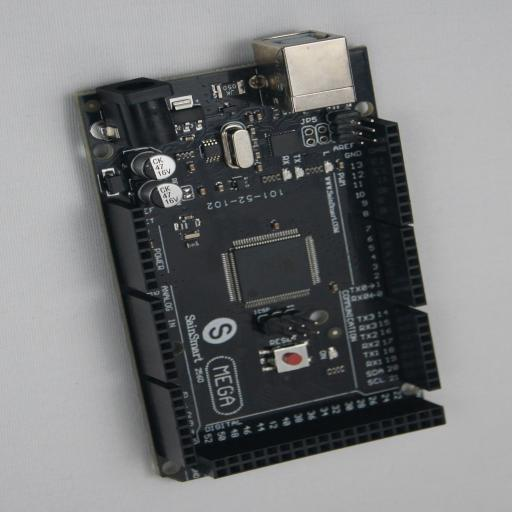Arduino Mega 2560 -Black-: (72, 31, 445, 482)
